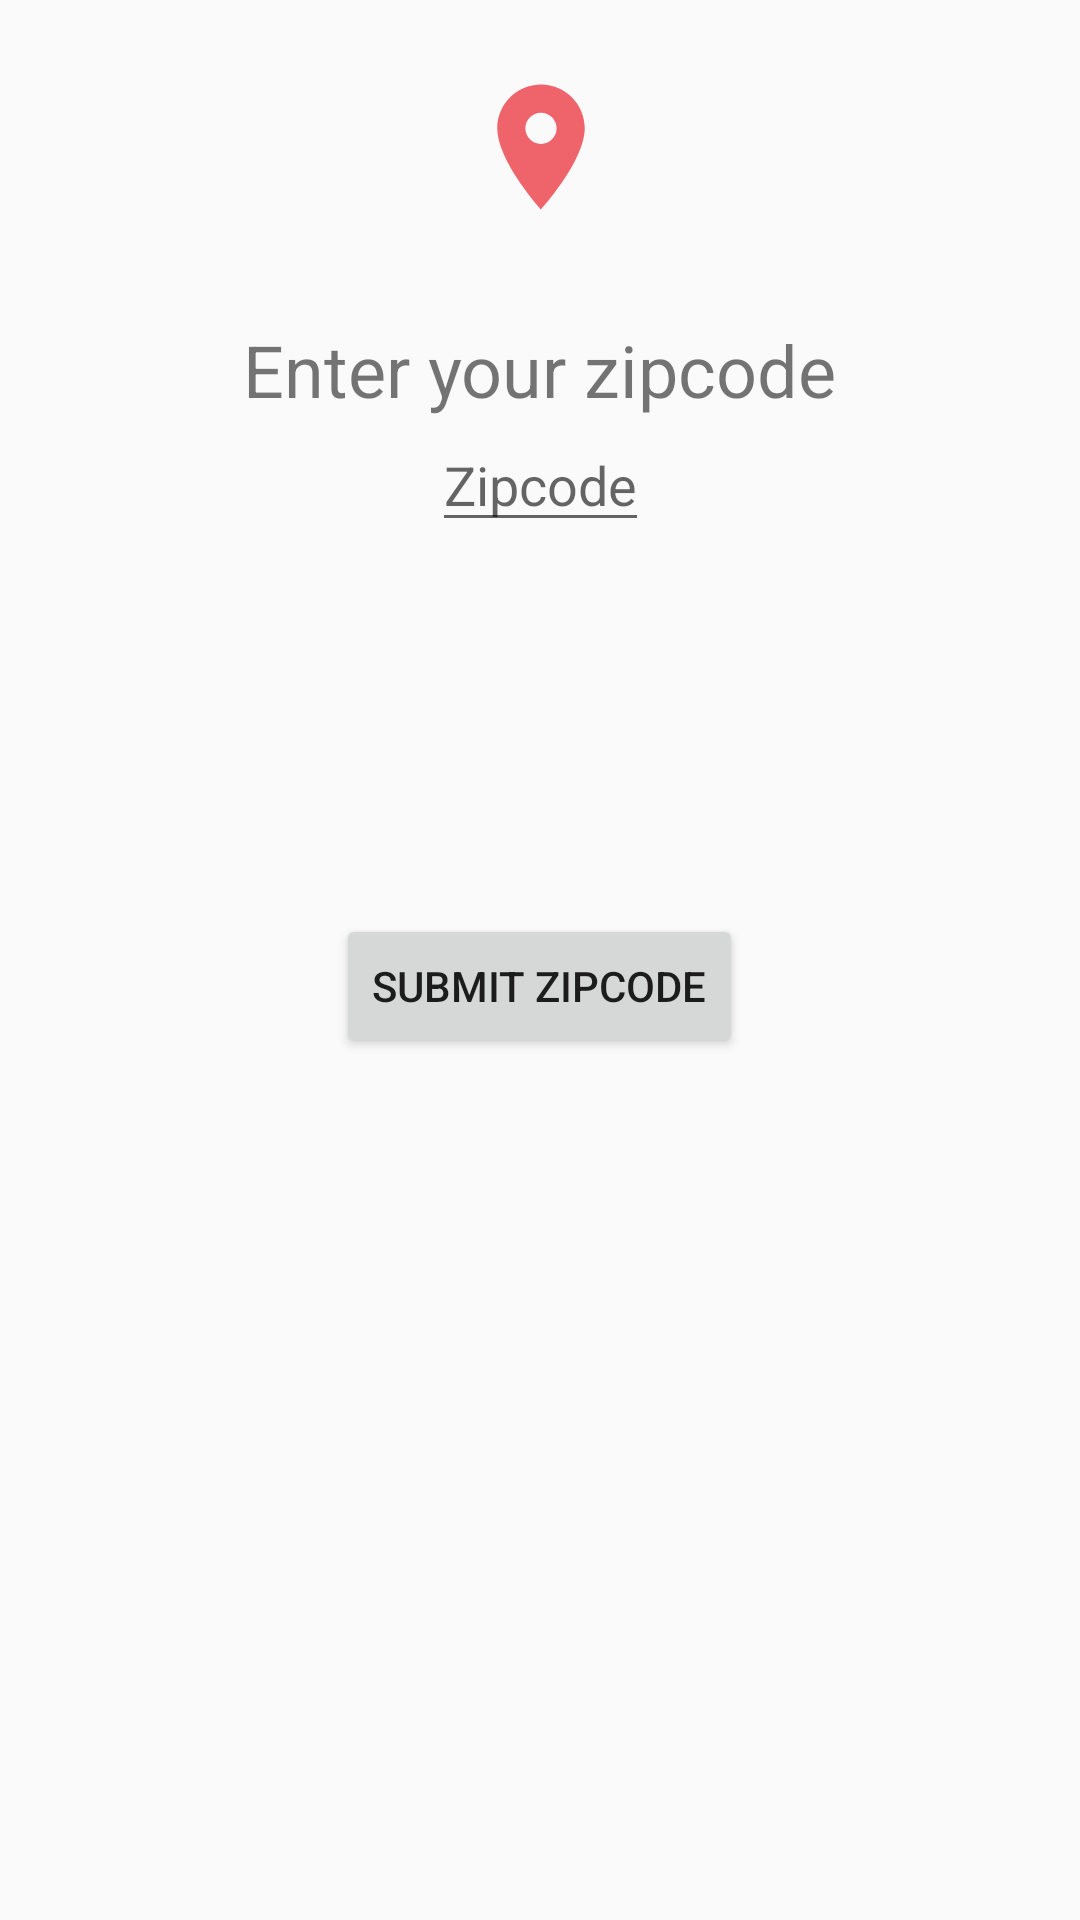

Point at icon controls on the screen. Image size 1080×1920, points as (x=x, y=y).
location on: (x=541, y=146)
